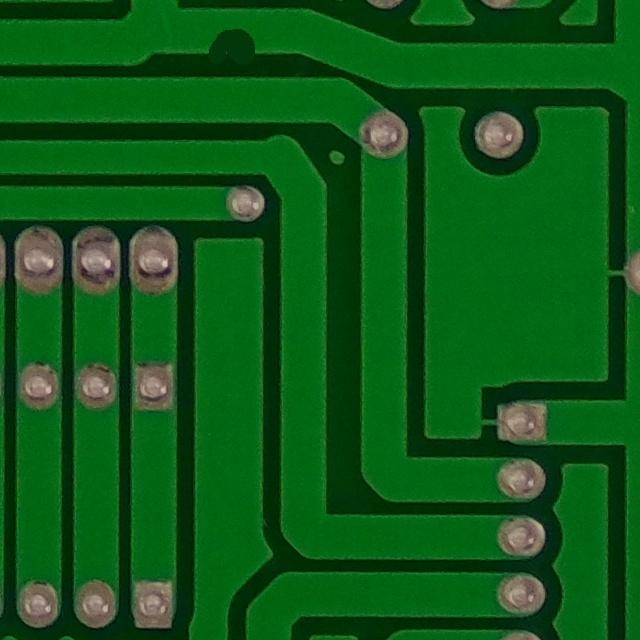mouse_bite: (190, 8, 271, 70)
